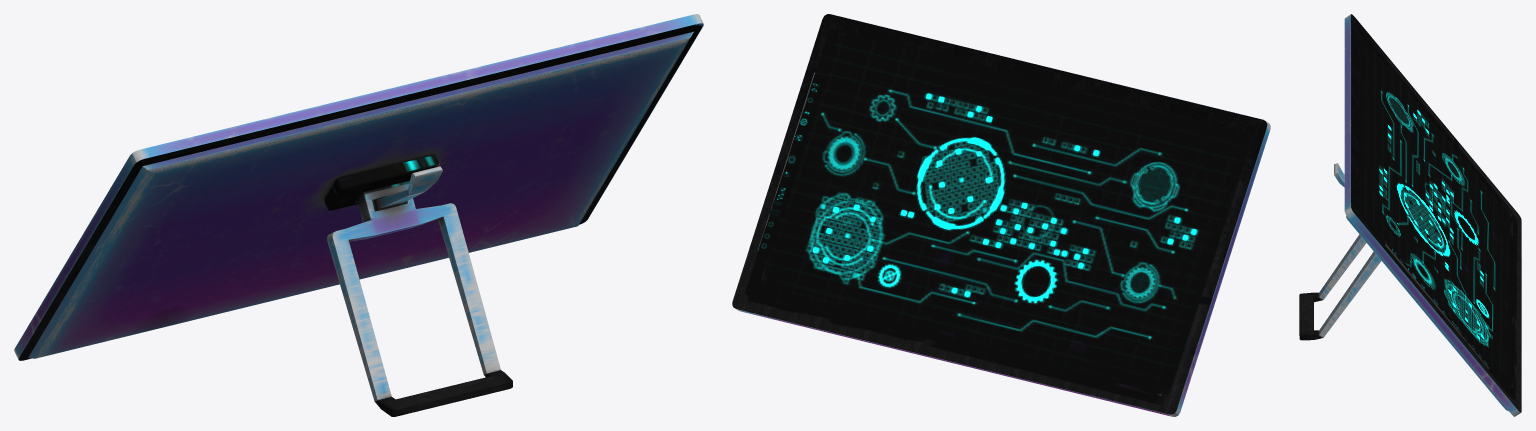
The model's file is FUT0410005.fbx.
The picture shows the model from 3 angles, left to right: view 1: azimuth 30°, elevation 25°; view 2: azimuth 150°, elevation 25°; view 3: azimuth 270°, elevation 25°; orthographic projection. The views are drawn at different scales.
Parts seen in each view (by area): view 1: smFUT0410005; view 2: smFUT0410005; view 3: smFUT0410005.
Part boxes in pixels (<box>): smFUT0410005: <box>14,14,703,416</box>; smFUT0410005: <box>732,14,1270,416</box>; smFUT0410005: <box>1299,14,1521,416</box>.
Size of the model in its own units: 140 by 69.54 by 66.78.
1 material, 1 textured.
